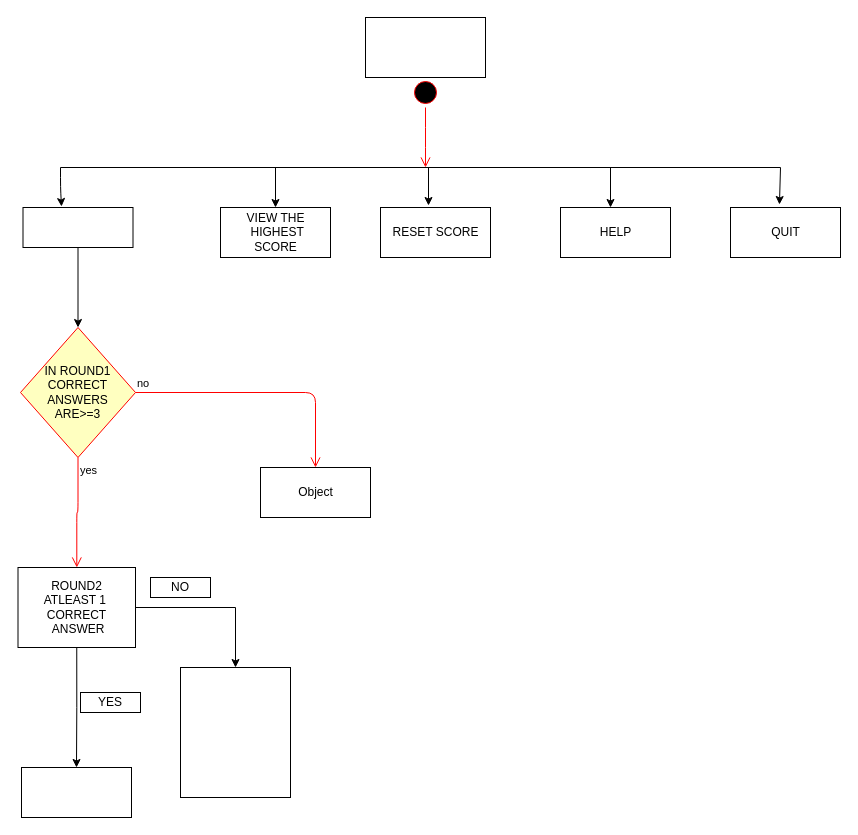
The diagram is 858 pixels wide and 835 high, and some of its shapes have lost their labels. The shapes that lost their labels are listed below. From the top down, each one's centre as x and y in pixels, then its label:
the point at 425,47: ENTER PLAYER NAME
the point at 77,227: START THE GAME
the point at 235,732: SORRY BETTER LUCK NEXT TIME
the point at 76,792: CONGRACTS
